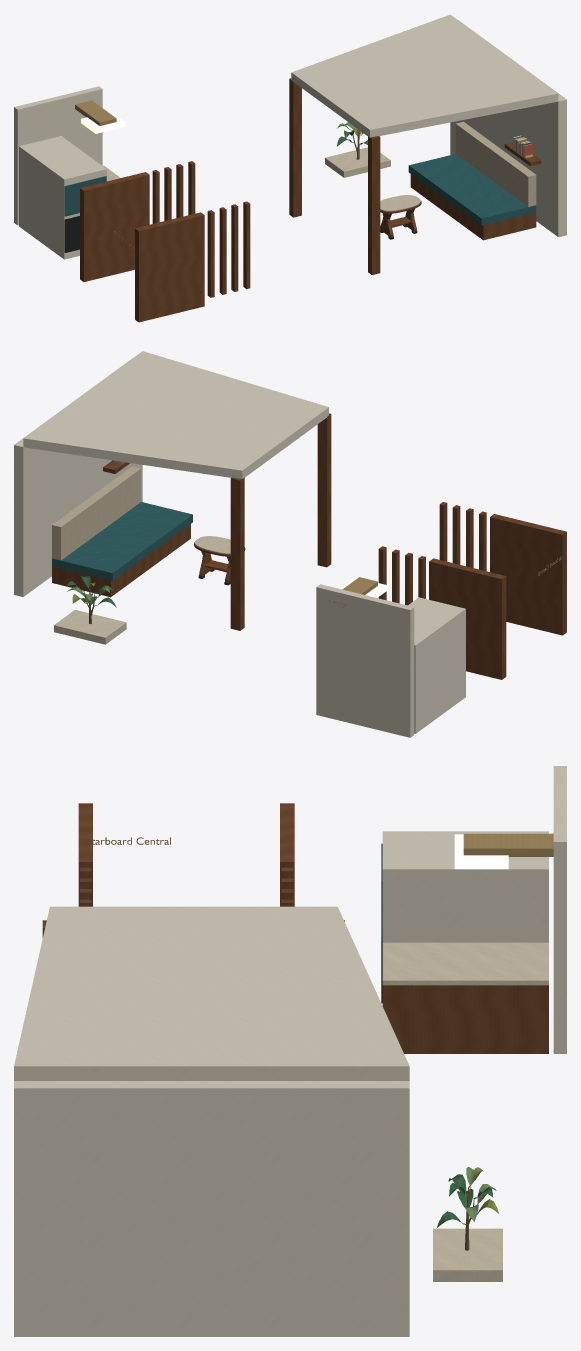
Rendered from starboard_central_upper_house.glb.
3 views of the same model, one above another, from view 1: azimuth 30°, elevation 25°; view 2: azimuth 150°, elevation 25°; view 3: azimuth 270°, elevation 25° (orthographic). The views are drawn at different scales.
Parts seen in each view (by area): view 1: QuietFanCover, InnerPrivacyReturn0, QuietGalleryBacking, CareClosedStore, InnerPrivacyReturn1, FittedQuietBenchCushion, CareTaskBacking, FittedQuietBenchBack, FittedQuietBenchFoot, FanBearingPost0, FanBearingPost1, GalleryPlantPlinth (+13 smaller); view 2: QuietFanCover, CareTaskBacking, QuietGalleryBacking, InnerPrivacyReturn0, CareClosedStore, InnerPrivacyReturn1, FittedQuietBenchCushion, FittedQuietBenchBack, FanBearingPost1, FanBearingPost0, FittedQuietBenchFoot, GalleryPlantPlinth (+3 smaller); view 3: QuietGalleryBacking, QuietFanCover, CareClosedStore, CareWorkBay, CareStoneSurface, CareTaskBacking, GalleryPlantPlinth, CareTaskArm, InnerPrivacyReturn0, InnerPrivacyReturn1, CareTaskLens.
Boxes of the visible parts, left/top/right/bottom form: QuietFanCover: left=291, top=14, right=558, bottom=137; InnerPrivacyReturn0: left=135, top=212, right=204, bottom=322; QuietGalleryBacking: left=450, top=21, right=566, bottom=237; CareClosedStore: left=19, top=136, right=106, bottom=259; InnerPrivacyReturn1: left=80, top=172, right=149, bottom=281; FittedQuietBenchCushion: left=408, top=154, right=536, bottom=225; CareTaskBacking: left=14, top=86, right=102, bottom=225; FittedQuietBenchBack: left=455, top=121, right=536, bottom=206; FittedQuietBenchFoot: left=410, top=174, right=536, bottom=240; FanBearingPost0: left=368, top=136, right=380, bottom=274; FanBearingPost1: left=289, top=78, right=301, bottom=217; GalleryPlantPlinth: left=325, top=147, right=390, bottom=177; QuietFanCover: left=23, top=351, right=328, bottom=478; CareTaskBacking: left=316, top=584, right=414, bottom=737; QuietGalleryBacking: left=14, top=358, right=142, bottom=596; InnerPrivacyReturn0: left=490, top=514, right=566, bottom=635; CareClosedStore: left=408, top=597, right=465, bottom=733; InnerPrivacyReturn1: left=429, top=558, right=506, bottom=679; FittedQuietBenchCushion: left=52, top=502, right=192, bottom=580; FittedQuietBenchBack: left=52, top=466, right=141, bottom=560; FanBearingPost1: left=230, top=477, right=244, bottom=630; FanBearingPost0: left=317, top=413, right=331, bottom=567; FittedQuietBenchFoot: left=52, top=524, right=190, bottom=597; GalleryPlantPlinth: left=54, top=610, right=126, bottom=644; QuietGalleryBacking: left=14, top=1081, right=409, bottom=1336; QuietFanCover: left=14, top=906, right=409, bottom=1080; CareClosedStore: left=382, top=831, right=548, bottom=942; CareWorkBay: left=382, top=985, right=548, bottom=1053; CareStoneSurface: left=382, top=942, right=548, bottom=985; CareTaskBacking: left=553, top=766, right=566, bottom=1053; GalleryPlantPlinth: left=433, top=1228, right=502, bottom=1281; CareTaskArm: left=463, top=833, right=553, bottom=856; InnerPrivacyReturn0: left=78, top=803, right=92, bottom=906; InnerPrivacyReturn1: left=280, top=803, right=294, bottom=906; CareTaskLens: left=454, top=834, right=508, bottom=869.
Size of the model in its own units: 9.65 by 3.23 by 6.15.
23 materials, 22 textured.
